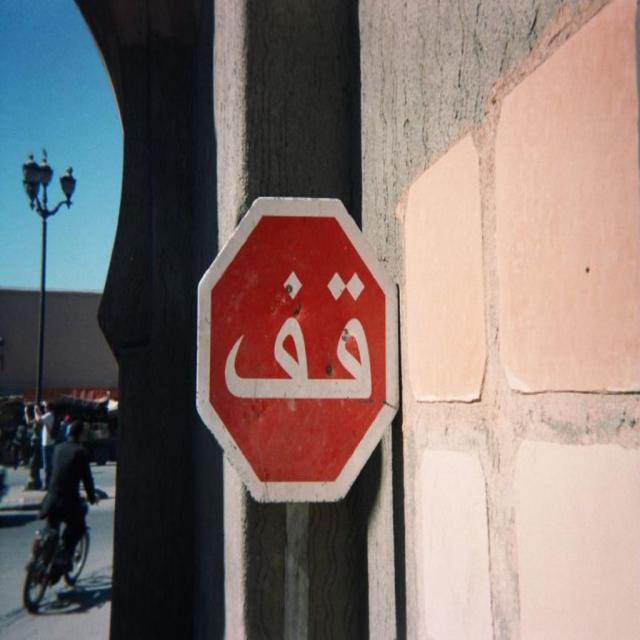Stop-sign: (195, 195, 399, 508)
